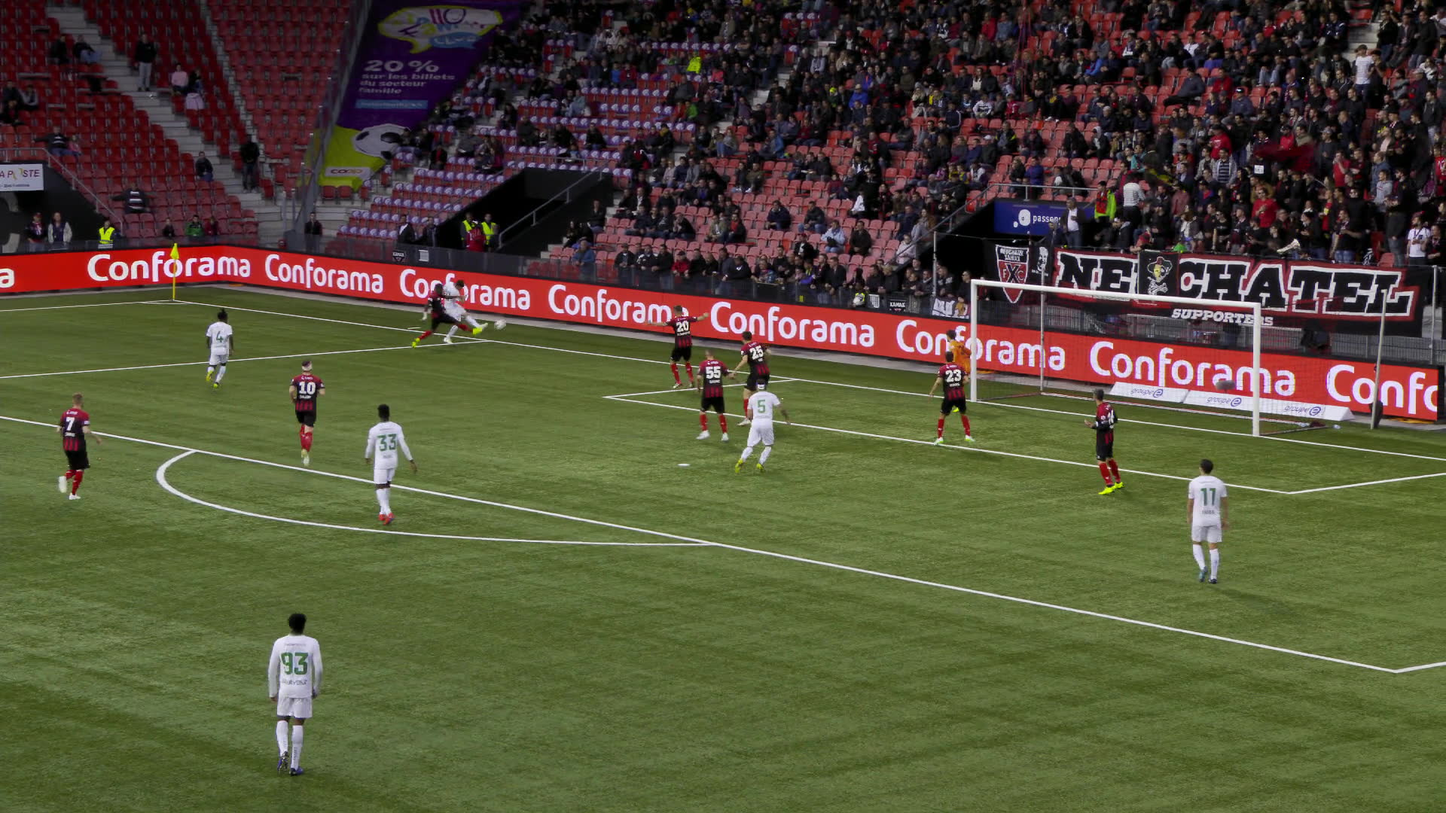ball: (493, 319, 505, 330)
player: (267, 614, 323, 780), (367, 403, 417, 525), (1186, 461, 1231, 586), (642, 305, 704, 390), (49, 391, 94, 499), (737, 379, 786, 473), (696, 349, 743, 440), (929, 352, 972, 445), (1085, 388, 1122, 493), (410, 283, 465, 348), (731, 333, 770, 422), (288, 362, 323, 461), (944, 329, 973, 411), (440, 278, 477, 340), (206, 305, 233, 385)
